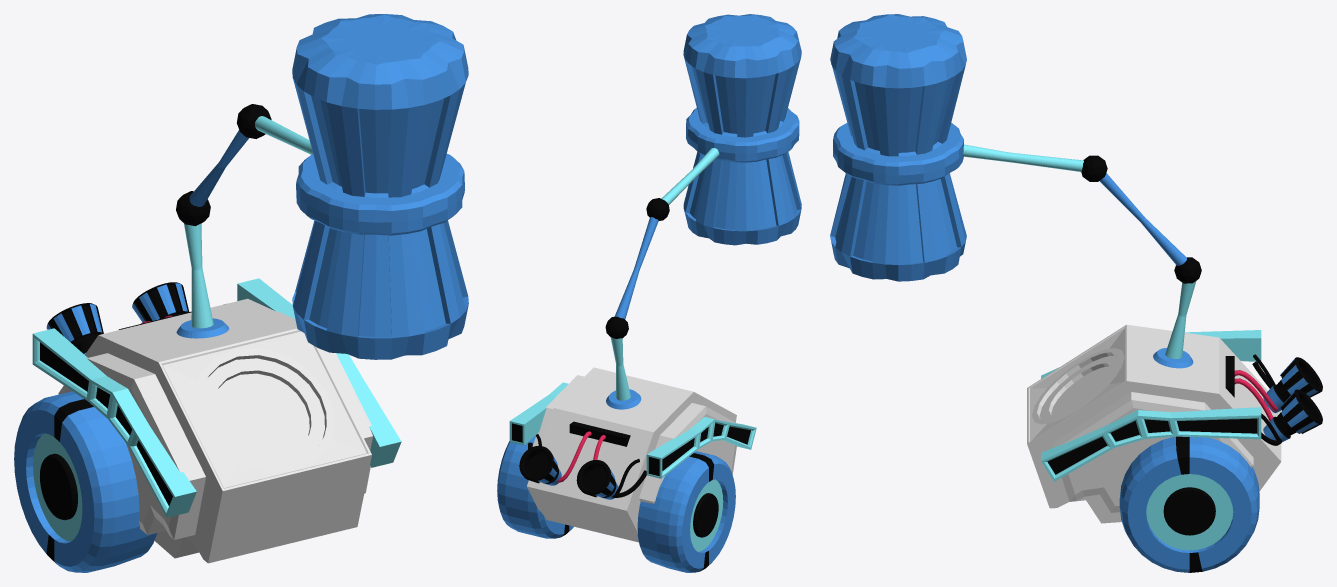
The model's file is cars for game.fbx.
The picture shows the model from 3 angles, left to right: view 1: azimuth 30°, elevation 25°; view 2: azimuth 150°, elevation 25°; view 3: azimuth 270°, elevation 25°; orthographic projection. The views are drawn at different scales.
Parts seen in each view (by area): view 1: Circle.001, Cube, Circle.002, Cube.001, Cylinder, Cylinder.002, Cylinder.001, Icosphere, Icosphere.001; view 2: Circle.001, Cube, Circle.002, Cube.001, Circle, Cylinder, Cylinder.001, Cylinder.002, Cube.002, Icosphere, Icosphere.001, BezierCurve.002; view 3: Circle.001, Cube, Circle, Cube.001, Cylinder, Cylinder.001, Cylinder.002, BezierCurve.002.
Boxes of the visible parts, left/top/right/bottom form: Circle.001: left=292, top=14, right=468, bottom=359; Cube: left=58, top=298, right=372, bottom=563; Circle.002: left=14, top=391, right=157, bottom=572; Cube.001: left=32, top=278, right=401, bottom=517; Cylinder: left=176, top=116, right=312, bottom=338; Cylinder.002: left=46, top=303, right=103, bottom=354; Cylinder.001: left=132, top=282, right=189, bottom=322; Icosphere: left=176, top=191, right=210, bottom=226; Icosphere.001: left=237, top=104, right=271, bottom=138; Circle.001: left=683, top=14, right=801, bottom=245; Cube: left=527, top=367, right=736, bottom=542; Circle.002: left=637, top=451, right=735, bottom=572; Cube.001: left=509, top=382, right=756, bottom=478; Circle: left=497, top=434, right=573, bottom=538; Cylinder: left=606, top=148, right=719, bottom=409; Cylinder.001: left=519, top=446, right=561, bottom=485; Cylinder.002: left=576, top=460, right=618, bottom=499; Cube.002: left=569, top=421, right=630, bottom=446; Icosphere: left=605, top=316, right=628, bottom=338; Icosphere.001: left=646, top=198, right=669, bottom=220; BezierCurve.002: left=558, top=431, right=605, bottom=482; Circle.001: left=830, top=14, right=966, bottom=281; Cube: left=1027, top=324, right=1281, bottom=523; Circle: left=1119, top=436, right=1259, bottom=572; Cube.001: left=1041, top=330, right=1261, bottom=481; Cylinder: left=963, top=144, right=1196, bottom=368; Cylinder.001: left=1263, top=389, right=1322, bottom=442; Cylinder.002: left=1263, top=357, right=1322, bottom=412; BezierCurve.002: left=1234, top=370, right=1278, bottom=420.
Bounding box in the file's own units: 370 × 812 × 739.
